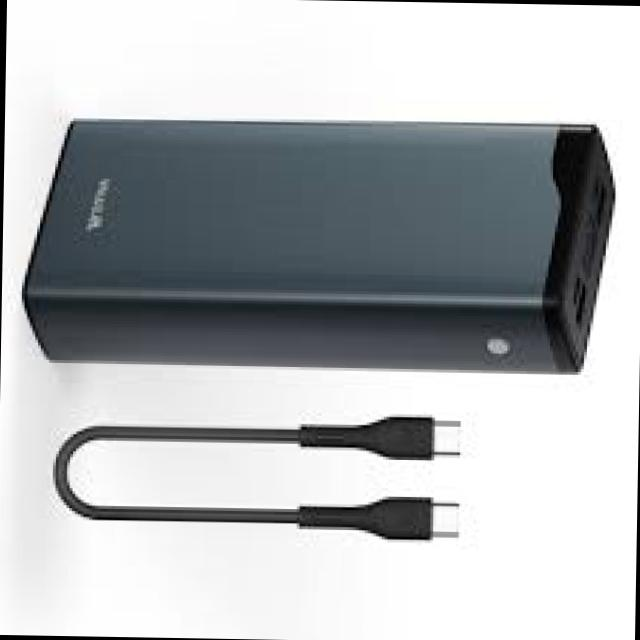power_bank: (16, 117, 619, 380)
